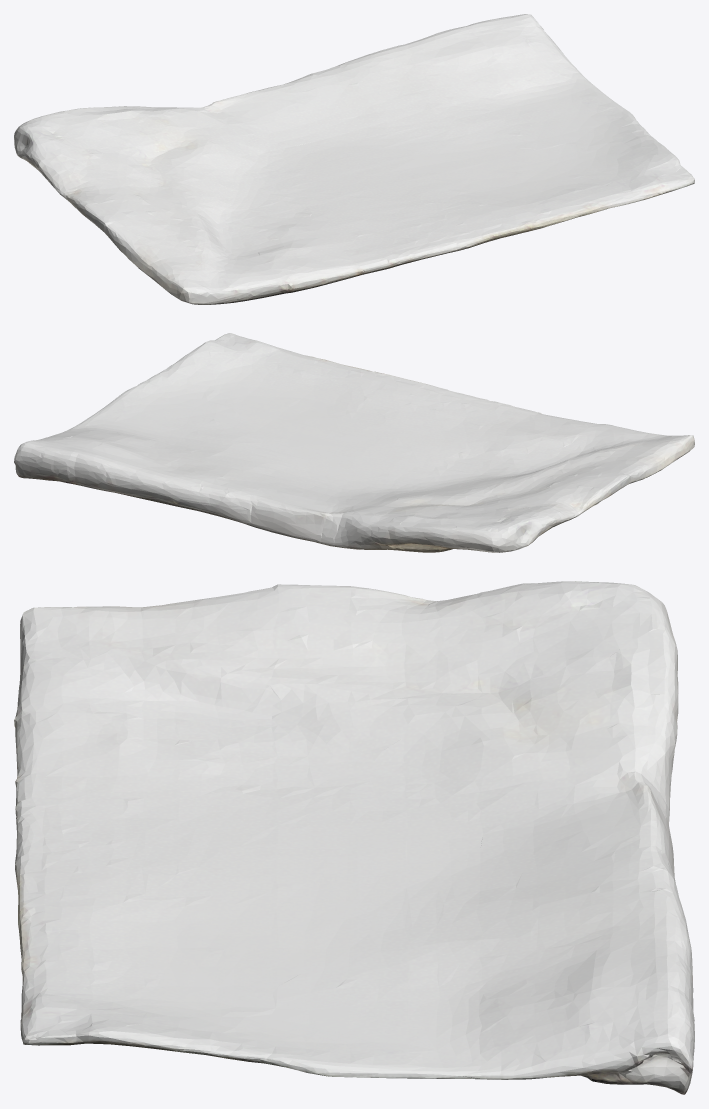
3 views of the same model, one above another, from view 1: azimuth 30°, elevation 25°; view 2: azimuth 150°, elevation 25°; view 3: azimuth 270°, elevation 25° (orthographic). The views are drawn at different scales.
Parts seen in each view (by area): view 1: world; view 2: world; view 3: world.
Boxes of the visible parts, x1,y1,x2,y2 form: world: [14, 14, 694, 304]; world: [14, 333, 694, 552]; world: [14, 581, 694, 1094].
Bounding box in the file's own units: 1 × 0.1045 × 0.6511.
Materials: 1 (1 with a texture image).
